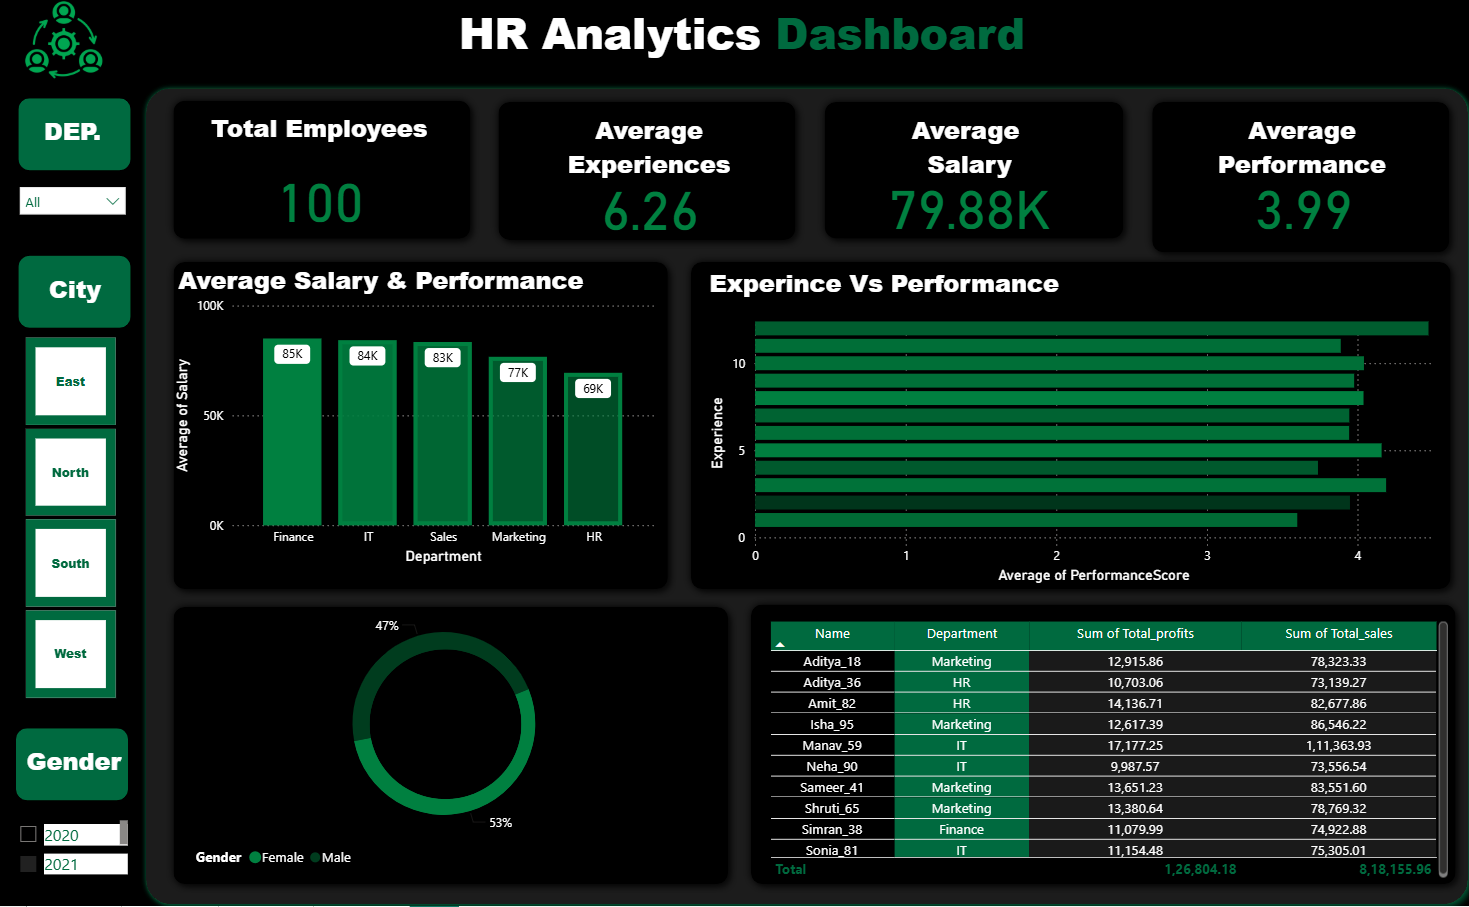

The dashboard page shown, as its layout file describes it:
{"tool":"powerbi","page":{"name":"Page 1","canvas":[1480,920],"ordinal":0},"visuals":[{"type":"shape","box":[140,86,1340,834],"z":0},{"type":"shape","box":[12,254,130,90],"z":0,"group":"g2"},{"type":"shape","box":[166,106,250,160],"z":1000},{"type":"group","id":"g1","title":"Group 1","box":[2,274,140,438],"z":1000,"group":"g2"},{"type":"shape","box":[424,106,250,160],"z":2000},{"type":"shape","box":[686,106,250,160],"z":3000},{"type":"shape","box":[1214,104,250,160],"z":4000},{"type":"shape","box":[952,104,250,160],"z":5000},{"type":"shape","box":[664,264,800,380],"z":6000},{"type":"shape","box":[170,264,494,376],"z":7000},{"type":"shape","box":[165.6,644.4,348.9,275.6],"z":8000},{"type":"shape","box":[514,644,950,276],"z":9000},{"type":"card","fields":{"Values":["CountNonNull(employees.EmployeeID)"]},"box":[240,176,100,76],"z":10000},{"type":"card","fields":{"Values":["Avg(employees.Salary)"]},"box":[982,182,182,64],"z":11000},{"type":"card","fields":{"Values":["Sum(sales.Profit)"]},"box":[702,182,212,70],"z":12000},{"type":"card","fields":{"Values":["Sum(sales.Sales)"]},"box":[474,172,156,84],"z":13000},{"type":"card","fields":{"Values":["Avg(employees.PerformanceScore)"]},"box":[1282,176,114,74],"z":14000},{"type":"hundredPercentStackedBarChart","fields":{"Category":["employees.Department"],"Y":["Avg(employees.Salary)"]},"box":[182,312,466,300],"z":15000},{"type":"clusteredColumnChart","fields":{"Category":["sales.Region"],"Y":["Sum(sales.Sales)"]},"box":[680,308,766,332],"z":16000},{"type":"donutChart","fields":{"Category":["dept_profit.Department"],"Y":["Sum(dept_profit.Profit_share)"]},"box":[186,656,312,248],"z":17000},{"type":"lineChart","fields":{"Category":["sales_trend.Year"],"Y":["Sum(sales_trend.Total_sales)"],"Y2":["Sum(sales_trend.Total_Profit)"]},"box":[536,702,912,202],"z":18000},{"type":"slicer","fields":{"Values":["sales.Category"]},"box":[12,184,126,68],"z":19000},{"type":"slicer","fields":{"Values":["sales.Region"]},"box":[2,338,140,374],"z":19000,"group":"g1"},{"type":"slicer","fields":{"Values":["sales.Date.Variation.Date Hierarchy.Year"]},"box":[10,822,126,70],"z":20000},{"type":"shape","title":"CIRCLE","box":[282.2,705.6,120,117.8],"z":21000},{"type":"textbox","box":[178,114,222,86],"z":22000},{"type":"textbox","box":[700,128,222,58],"z":23000},{"type":"textbox","box":[962,114,222,86],"z":24000},{"type":"textbox","box":[1226,114,222,86],"z":25000},{"type":"textbox","box":[440,126,222,58],"z":26000},{"type":"textbox","box":[186,274,414,60],"z":27000},{"type":"textbox","box":[686,282,414,60],"z":28000},{"type":"textbox","box":[536,656,414,60],"z":29000},{"type":"textbox","box":[14,274,126,50],"z":29003,"group":"g1"},{"type":"shape","box":[12,96,130,90],"z":30000},{"type":"textbox","box":[12,116,126,50],"z":31000},{"type":"group","id":"g2","title":"Group 2","box":[2,254,140,458],"z":32000},{"type":"shape","box":[10,726,130,90],"z":33000},{"type":"textbox","box":[14,746,126,50],"z":34000},{"type":"textbox","box":[10,4,1470,82],"z":35000},{"type":"image","box":[10,4,144,86],"z":36000}]}

Visuals, with their boxes in screenshot pixels (x1, y1, x2, y2), scaled from the page's 1480x920 canvas onto the 1469x907 screenshot:
shape: bbox=(139, 85, 1468, 906)
shape: bbox=(12, 250, 141, 339)
shape: bbox=(165, 105, 413, 262)
"Group 1" group: bbox=(2, 270, 141, 702)
shape: bbox=(421, 105, 669, 262)
shape: bbox=(681, 105, 929, 262)
shape: bbox=(1205, 103, 1453, 260)
shape: bbox=(945, 103, 1193, 260)
shape: bbox=(659, 260, 1453, 635)
shape: bbox=(169, 260, 659, 631)
shape: bbox=(164, 635, 511, 906)
shape: bbox=(510, 635, 1453, 906)
card - CountNonNull(employees.EmployeeID): bbox=(238, 174, 337, 248)
card - Avg(employees.Salary): bbox=(975, 179, 1155, 243)
card - Sum(sales.Profit): bbox=(697, 179, 907, 248)
card - Sum(sales.Sales): bbox=(470, 170, 625, 252)
card - Avg(employees.PerformanceScore): bbox=(1272, 174, 1386, 246)
hundredPercentStackedBarChart - employees.Department x Avg(employees.Salary): bbox=(181, 308, 643, 603)
clusteredColumnChart - sales.Region x Sum(sales.Sales): bbox=(675, 304, 1435, 631)
donutChart - dept_profit.Department x Sum(dept_profit.Profit_share): bbox=(185, 647, 494, 891)
lineChart - sales_trend.Year x Sum(sales_trend.Total_sales): bbox=(532, 692, 1437, 891)
slicer - sales.Category: bbox=(12, 181, 137, 248)
slicer - sales.Region: bbox=(2, 333, 141, 702)
slicer - sales.Date.Variation.Date Hierarchy.Year: bbox=(10, 810, 135, 879)
"CIRCLE" shape: bbox=(280, 696, 399, 812)
textbox: bbox=(177, 112, 397, 197)
textbox: bbox=(695, 126, 915, 183)
textbox: bbox=(955, 112, 1175, 197)
textbox: bbox=(1217, 112, 1437, 197)
textbox: bbox=(437, 124, 657, 181)
textbox: bbox=(185, 270, 596, 329)
textbox: bbox=(681, 278, 1092, 337)
textbox: bbox=(532, 647, 943, 706)
textbox: bbox=(14, 270, 139, 319)
shape: bbox=(12, 95, 141, 183)
textbox: bbox=(12, 114, 137, 164)
"Group 2" group: bbox=(2, 250, 141, 702)
shape: bbox=(10, 716, 139, 804)
textbox: bbox=(14, 735, 139, 785)
textbox: bbox=(10, 4, 1468, 85)
image: bbox=(10, 4, 153, 89)
